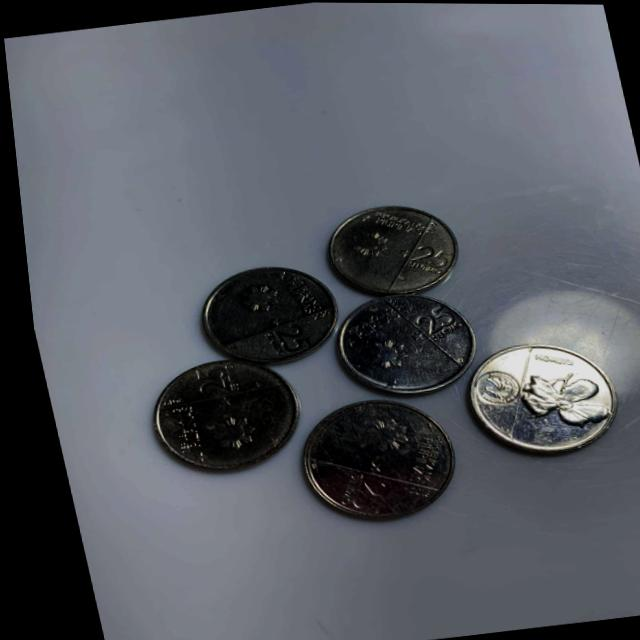25Cent_New_Back: (491, 348, 603, 446)
25Cent_New_Front: (333, 474, 380, 509), (181, 364, 224, 399), (265, 320, 309, 354), (400, 239, 448, 270), (403, 302, 451, 332)
